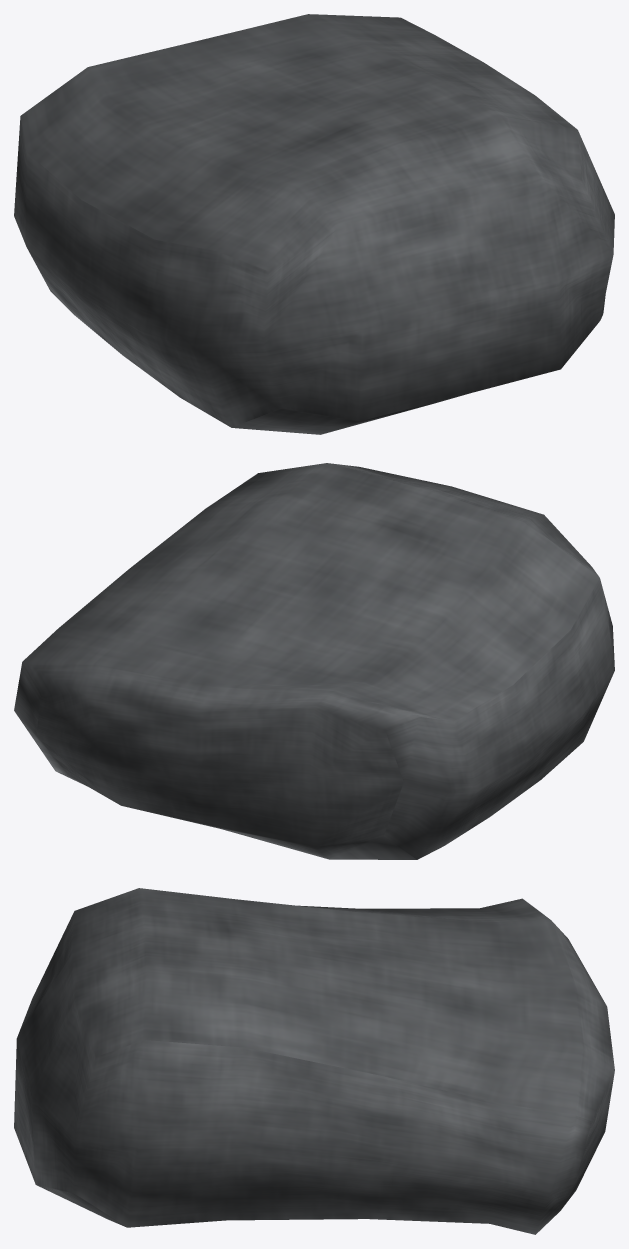
The model's file is Steen 8.fbx.
The picture shows the model from 3 angles, top to bottom: view 1: azimuth 30°, elevation 25°; view 2: azimuth 150°, elevation 25°; view 3: azimuth 270°, elevation 25°; orthographic projection. The views are drawn at different scales.
Visible parts, largest first — view 1: pCube8; view 2: pCube8; view 3: pCube8.
Part boxes in pixels (x1,y1,x2,y2): pCube8: [14, 14, 614, 434]; pCube8: [14, 463, 614, 859]; pCube8: [14, 888, 614, 1234].
Bounding box in the file's own units: 1.03 × 0.5611 × 1.16.
